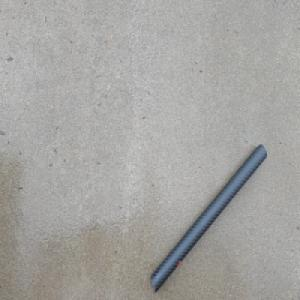LuggagePart: (149, 141, 270, 292)
